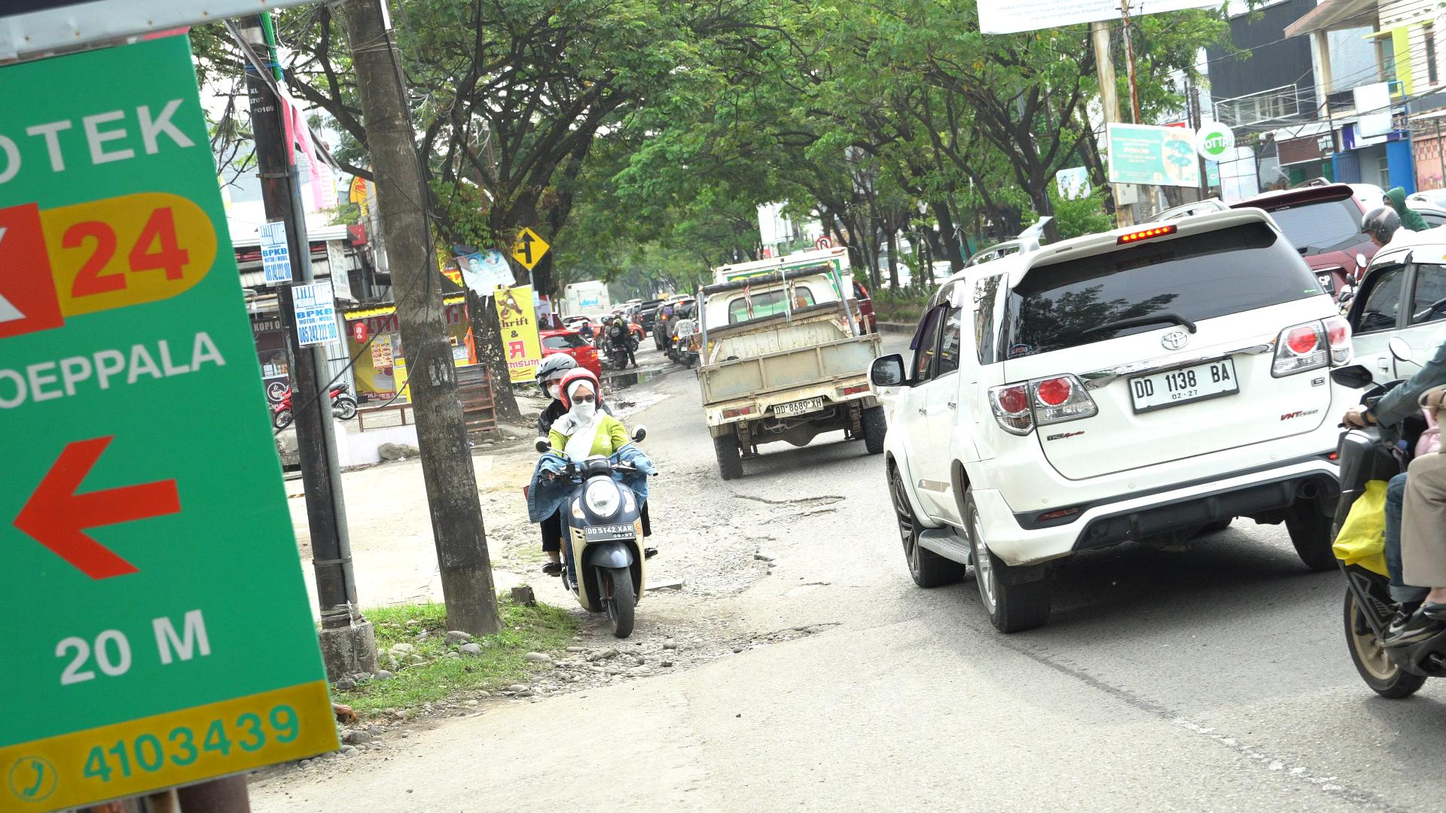number-plate: (585, 522, 637, 543)
